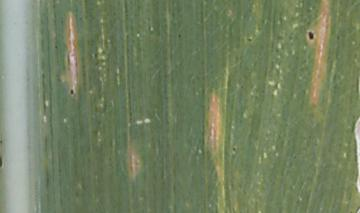tarspot: (303, 27, 318, 44), (67, 86, 76, 99)
